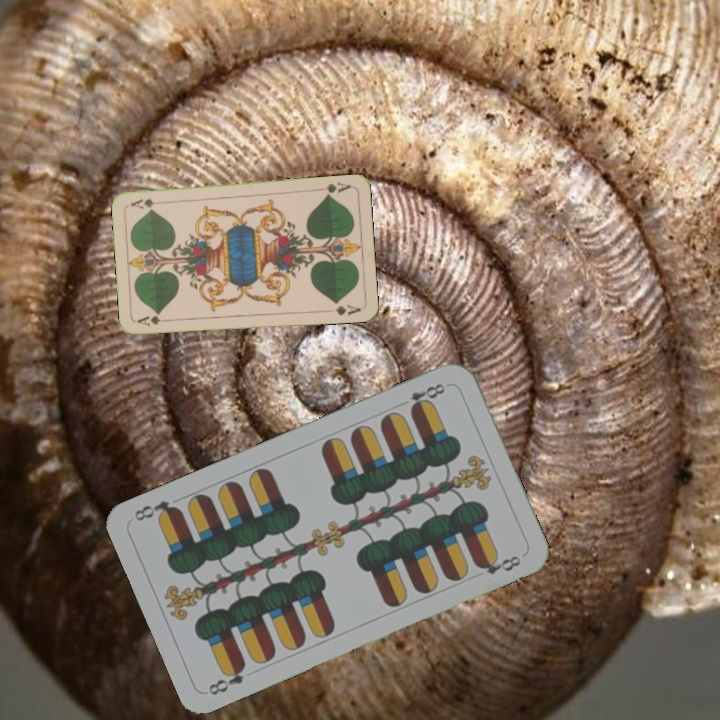E8: (204, 659, 248, 698), (406, 379, 448, 415)
GA: (314, 178, 354, 199), (134, 312, 174, 329)
